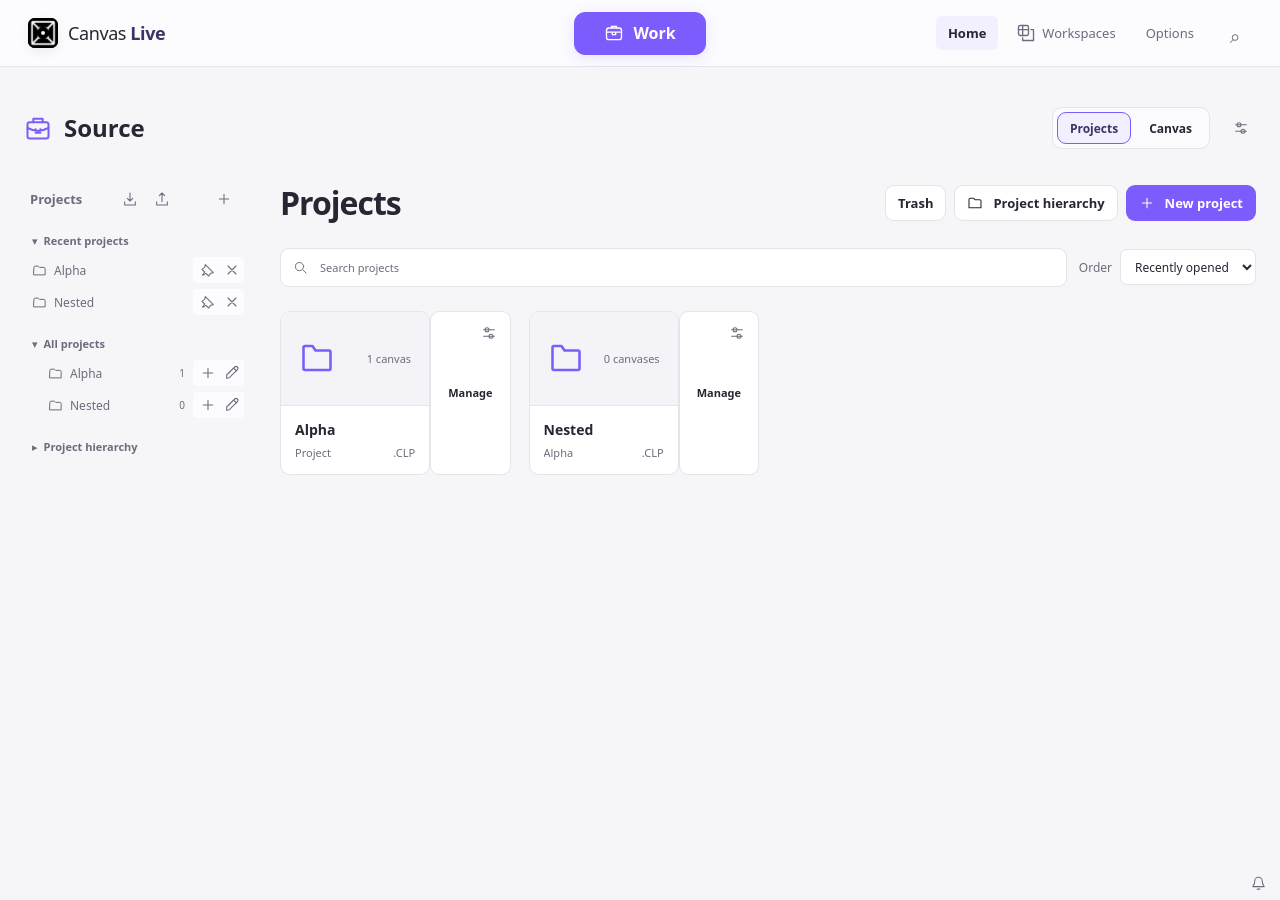
Test case: App recoverable workspace item actions › trashes and restores a complete project tree while preserving canonical files and other workspace views
This screenshot has width=1280, height=900.
Click the button with aria-label "Manage project Alpha".
click(470, 393)  # box [430,311,510,475]
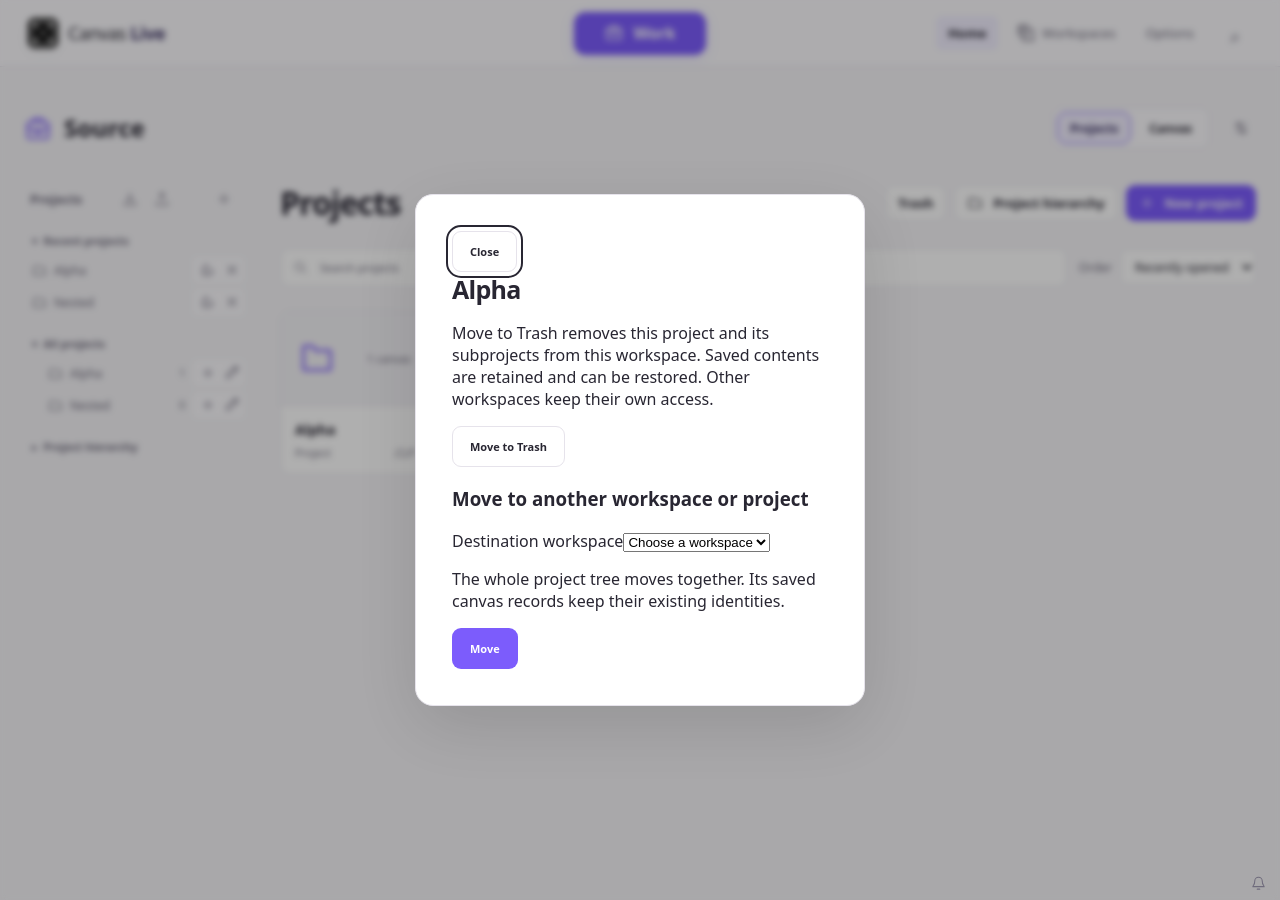
Click the button "Move to Trash".
click(508, 447)  # box [452,426,565,467]
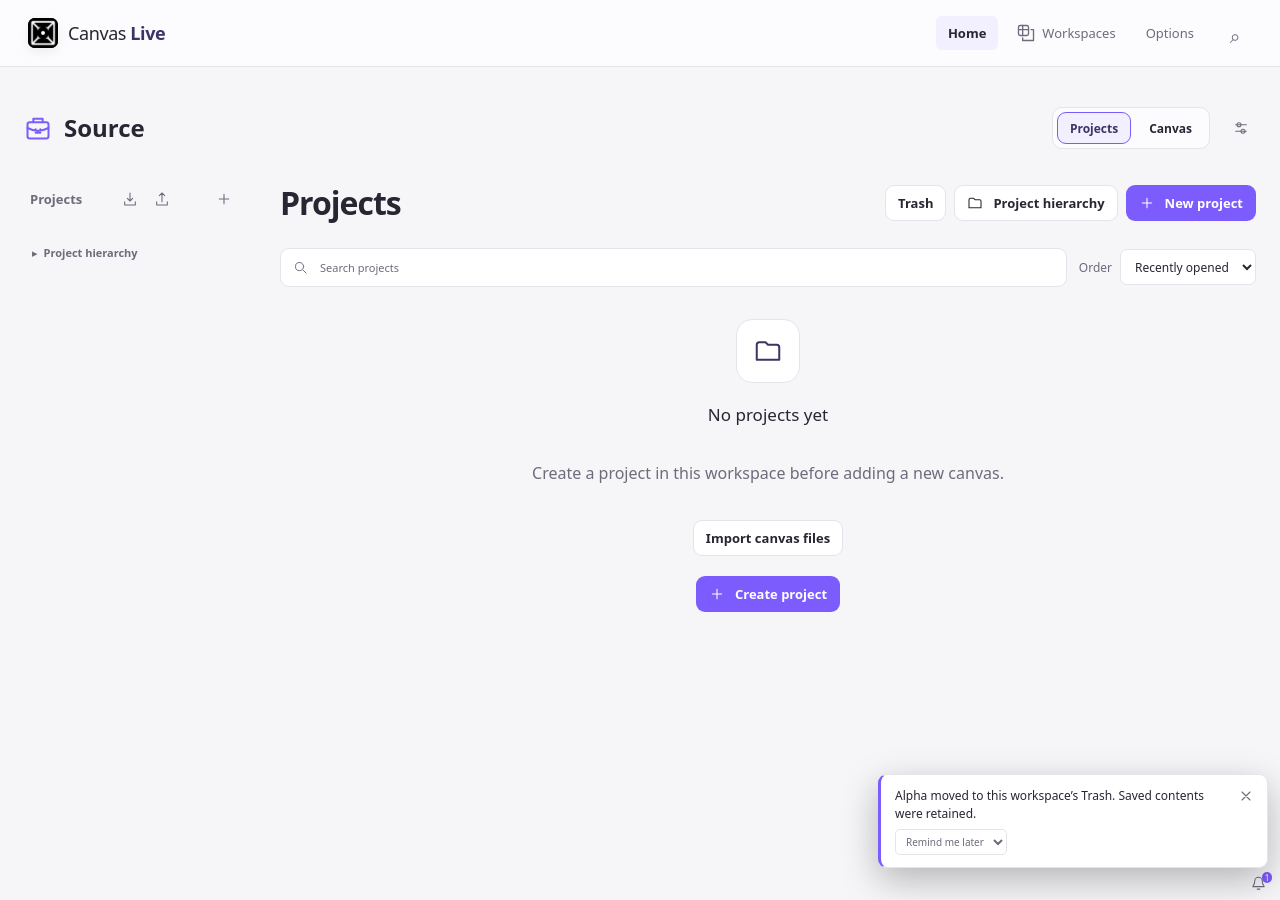
expect the dialog is gone: met
expect the button "Browse project Alpha" is gone: met
Click the button "Trash".
click(916, 203)  # box [885,185,946,221]
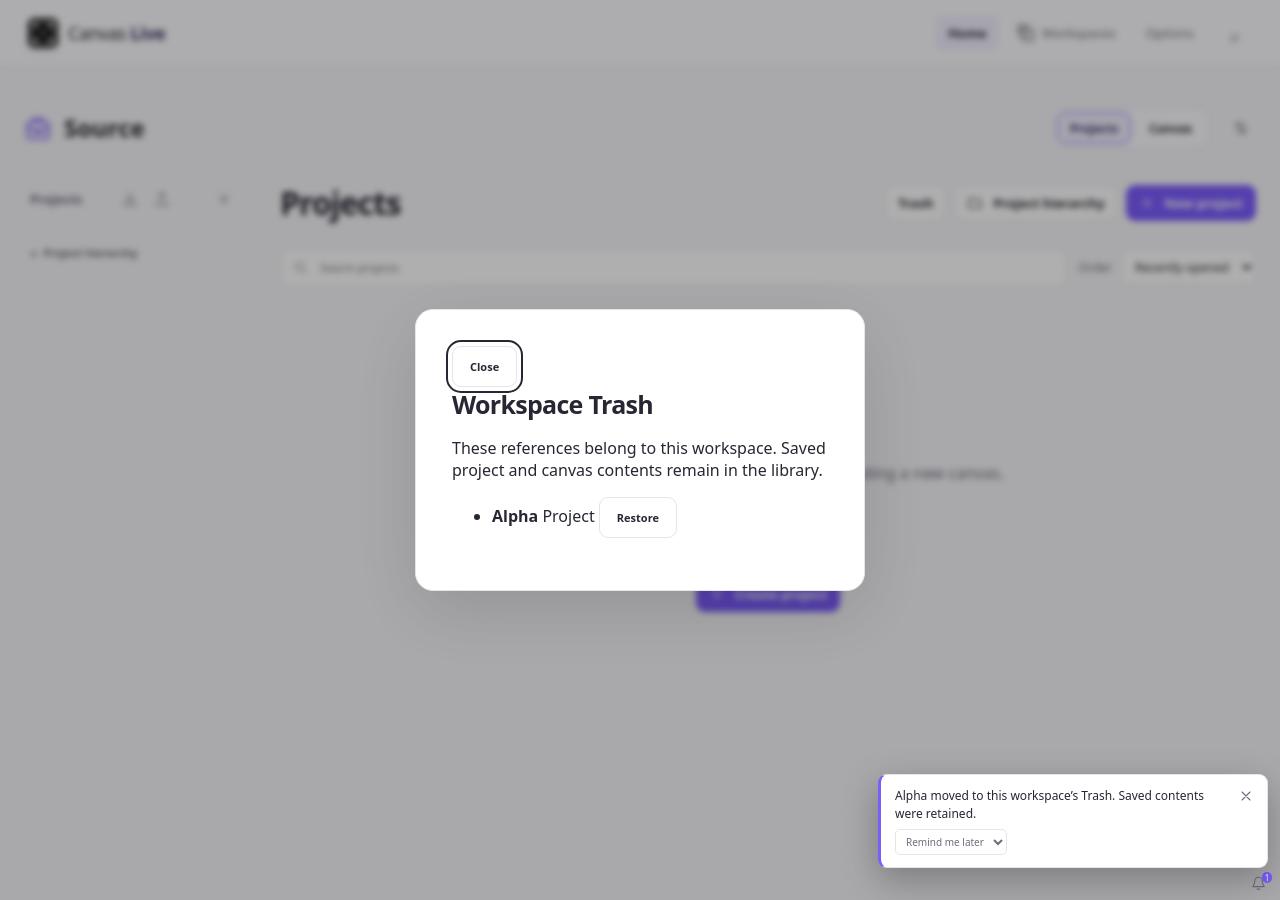
Click the button with aria-label "Restore Alpha".
click(638, 518)  # box [599,497,677,538]
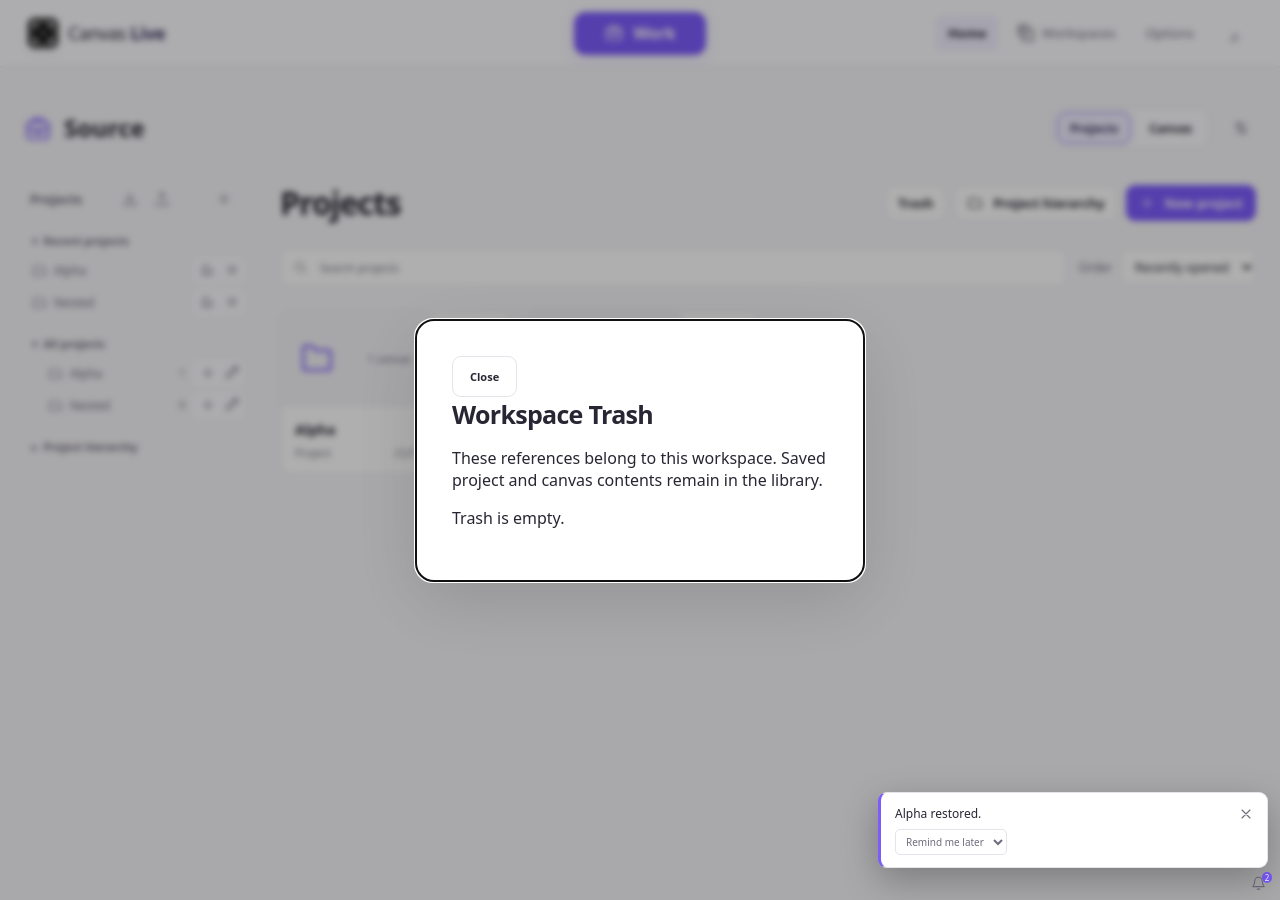
expect the dialog "Workspace Trash" is shown: met, box [415,318,865,582]
expect the button with aria-label "Browse project Alpha" is shown: met, box [280,311,430,475]
expect the text "Trash is empty." is shown: met, box [452,506,564,528]
